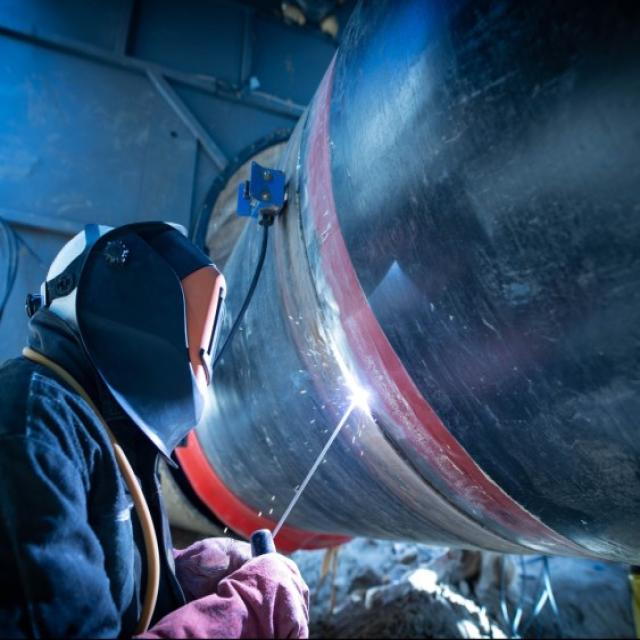welding: (346, 382, 371, 412)
